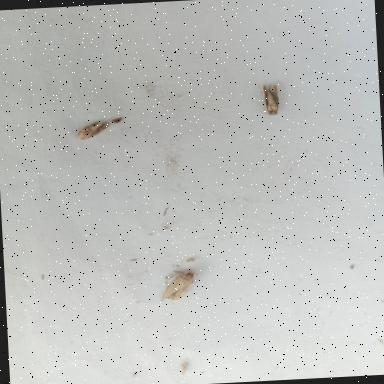pbw: (160, 262, 202, 304), (258, 82, 282, 118), (76, 120, 112, 140)
